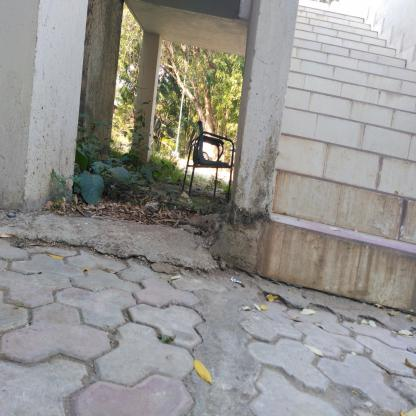stairs: (298, 45, 398, 326)
